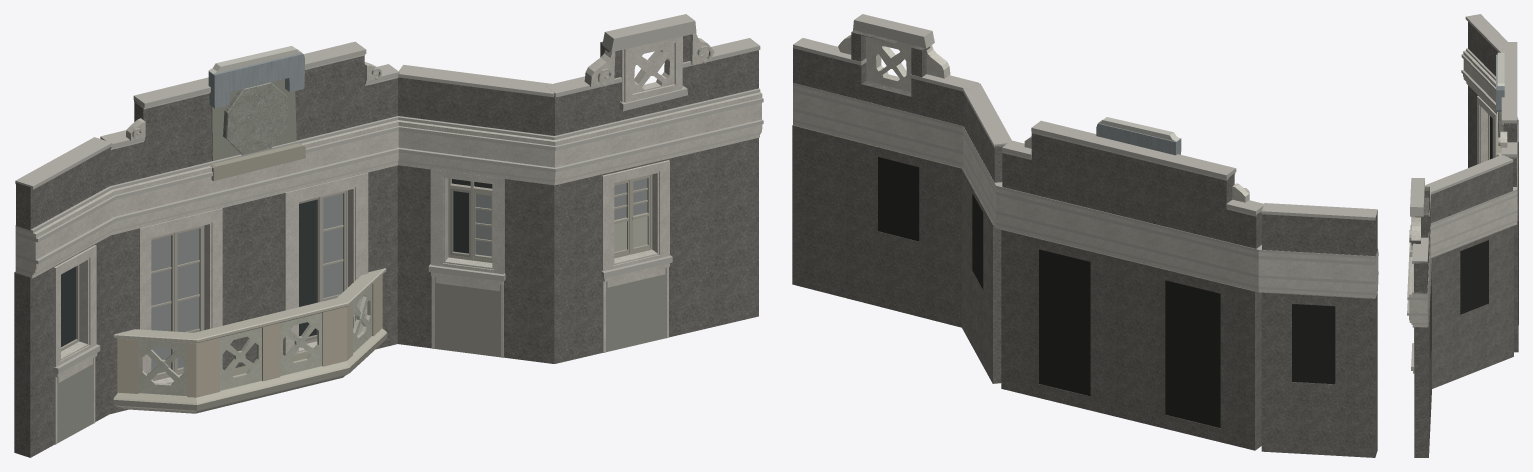
The model's file is jingan-cheng-family-residence-historic-balcony-lod.glb.
The picture shows the model from 3 angles, left to right: view 1: azimuth 30°, elevation 25°; view 2: azimuth 150°, elevation 25°; view 3: azimuth 270°, elevation 25°; orthographic projection. The views are drawn at different scales.
Visible parts, largest first — view 1: 程氏住宅旧照中的临街花栏、折面长窗与切角石额; view 2: 程氏住宅旧照中的临街花栏、折面长窗与切角石额; view 3: 程氏住宅旧照中的临街花栏、折面长窗与切角石额.
Part boxes in pixels (left/top/right/bottom): 程氏住宅旧照中的临街花栏、折面长窗与切角石额: left=14, top=14, right=763, bottom=457; 程氏住宅旧照中的临街花栏、折面长窗与切角石额: left=792, top=14, right=1378, bottom=457; 程氏住宅旧照中的临街花栏、折面长窗与切角石额: left=1407, top=14, right=1518, bottom=457.
Bounding box in the file's own units: 11.04 × 4.91 × 2.11.
20 materials, 5 textured.
